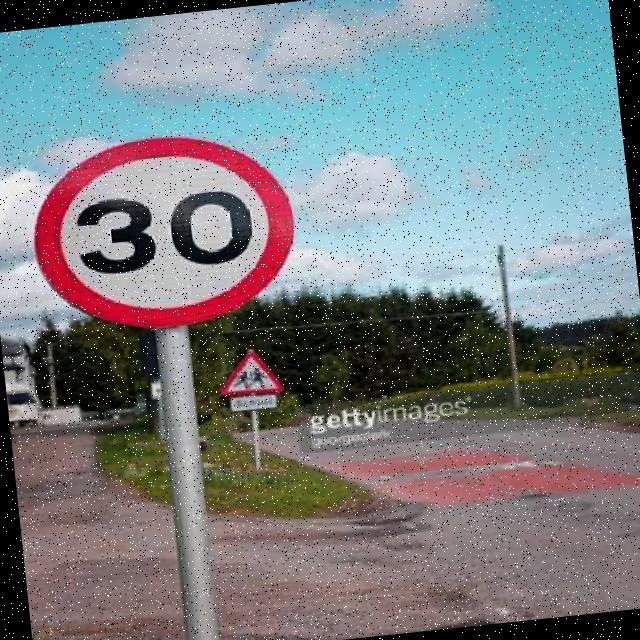Ograniczenie predkosci do 30: (25, 121, 301, 345)
